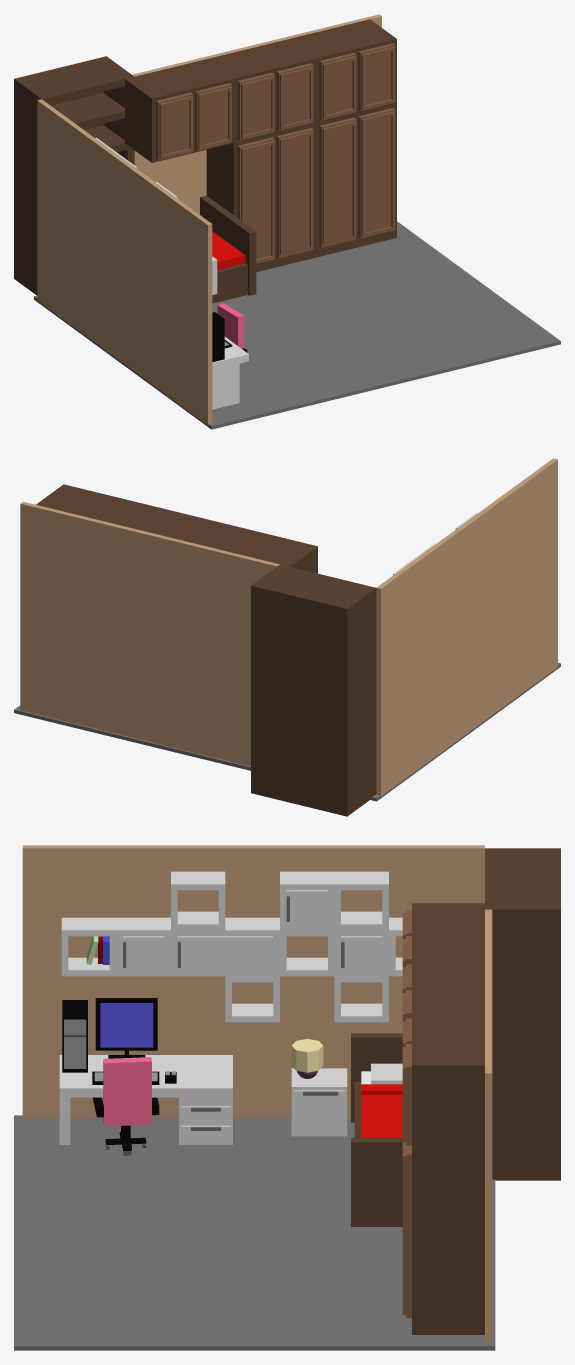
Rendered from room.glb.
3 renders of one model, top to bottom at view 1: azimuth 30°, elevation 25°; view 2: azimuth 150°, elevation 25°; view 3: azimuth 270°, elevation 25°, orthographic. The views are drawn at different scales.
Visible parts, largest first — view 1: Plane; view 2: Plane; view 3: Plane.
Part boxes in pixels (x1,y1,x2,y2): Plane: [14, 14, 560, 429]; Plane: [14, 458, 560, 816]; Plane: [14, 845, 560, 1350].
Bounding box in the file's own units: 5.69 × 3.14 × 5.69.
